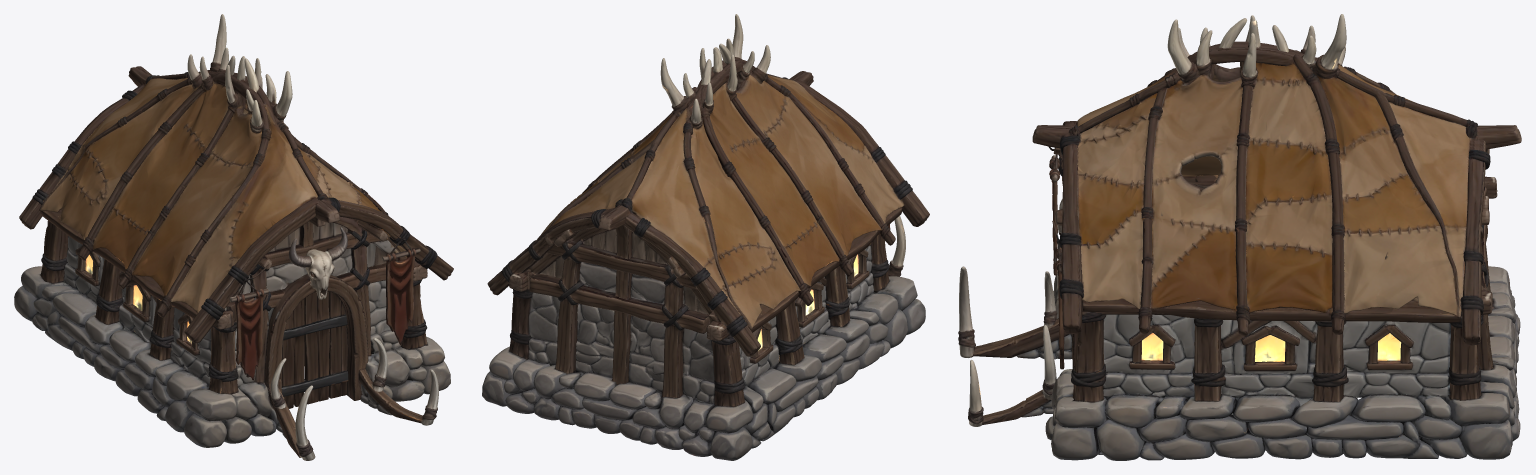
Rendered from TrollHut_300k.glb.
3 renders of one model, left to right at view 1: azimuth 30°, elevation 25°; view 2: azimuth 150°, elevation 25°; view 3: azimuth 270°, elevation 25°, orthographic. The views are drawn at different scales.
Visible parts, largest first — view 1: Mesh_0; view 2: Mesh_0; view 3: Mesh_0.
Part boxes in pixels (<box>): Mesh_0: <box>14,14,453,460</box>; Mesh_0: <box>482,14,929,460</box>; Mesh_0: <box>958,14,1521,460</box>.
Bounding box in the file's own units: 1.25 × 1.43 × 1.9.
1 material, 1 textured.
